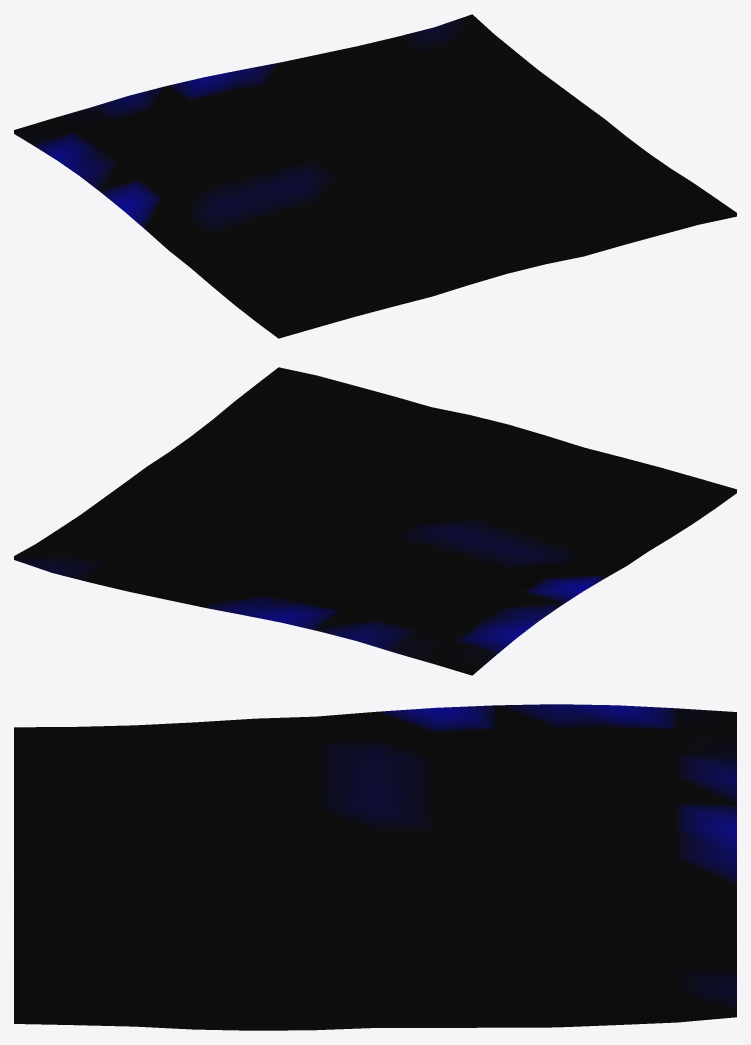
The model's file is coast_4_5.glb.
3 views of the same model, one above another, from view 1: azimuth 30°, elevation 25°; view 2: azimuth 150°, elevation 25°; view 3: azimuth 270°, elevation 25° (orthographic). The views are drawn at different scales.
Parts seen in each view (by area): view 1: terrain; view 2: terrain; view 3: terrain.
Part boxes in pixels (x1,y1,x2,y2): terrain: (14,14,736,338); terrain: (14,367,736,675); terrain: (14,704,736,1030).
Size of the model in its own units: 192 by 9.33 by 192.
